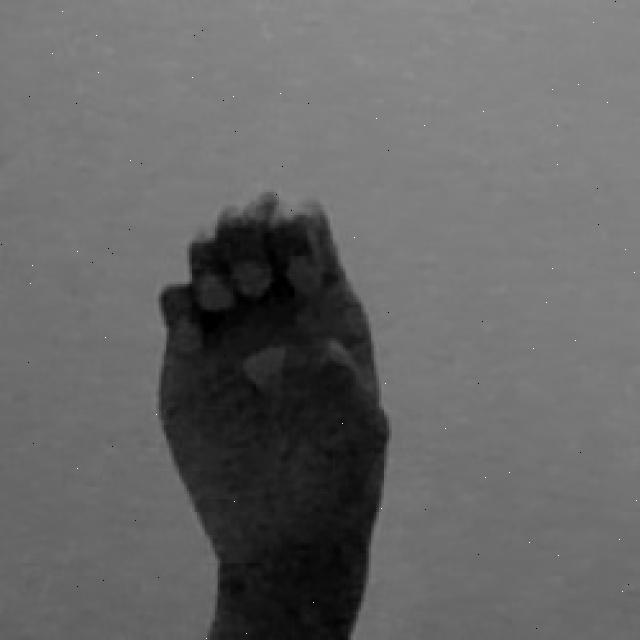E: (156, 186, 392, 640)
